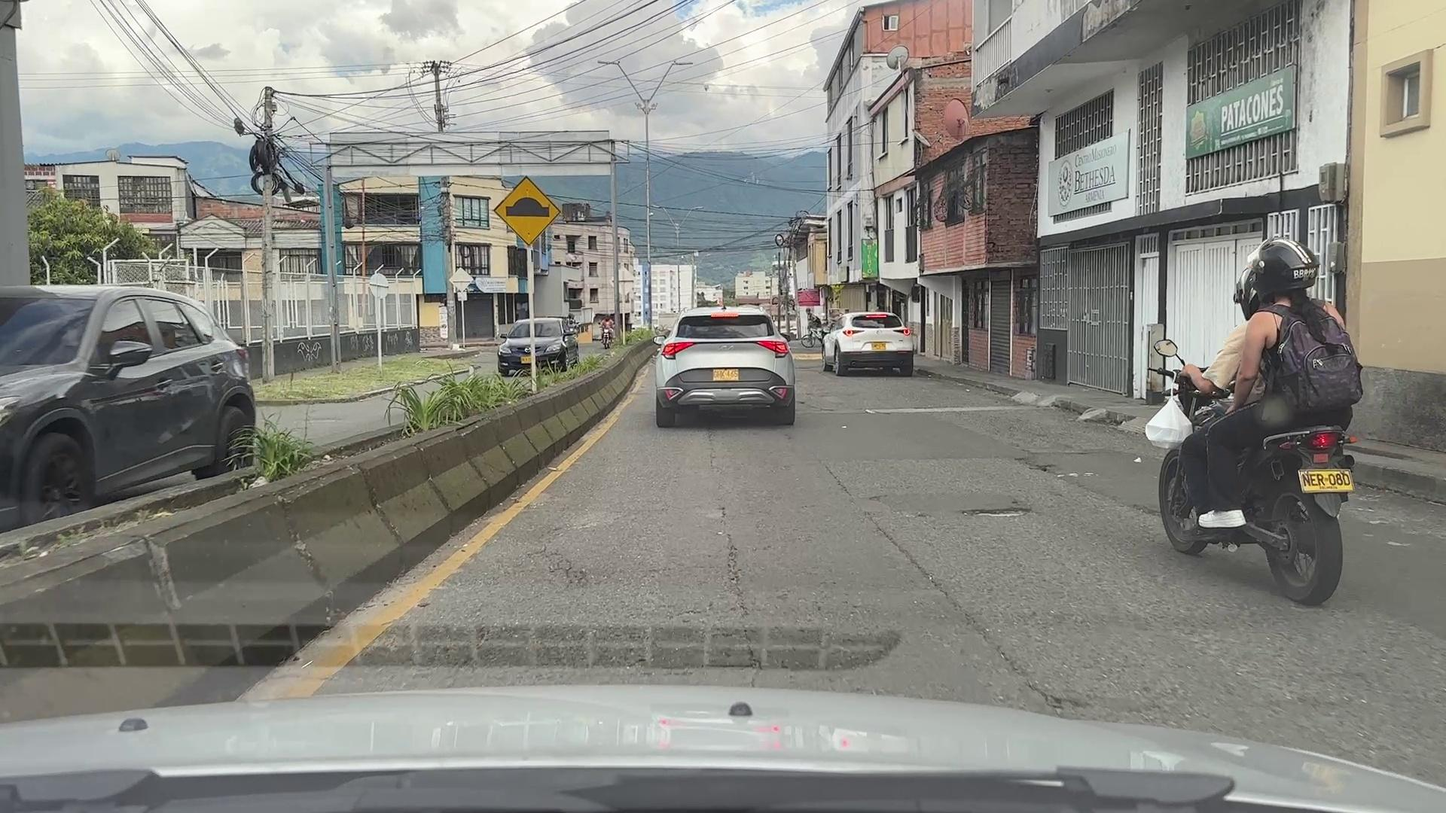bache: (965, 510, 1026, 517), (1029, 464, 1056, 472)
grieta: (710, 534, 762, 670)
